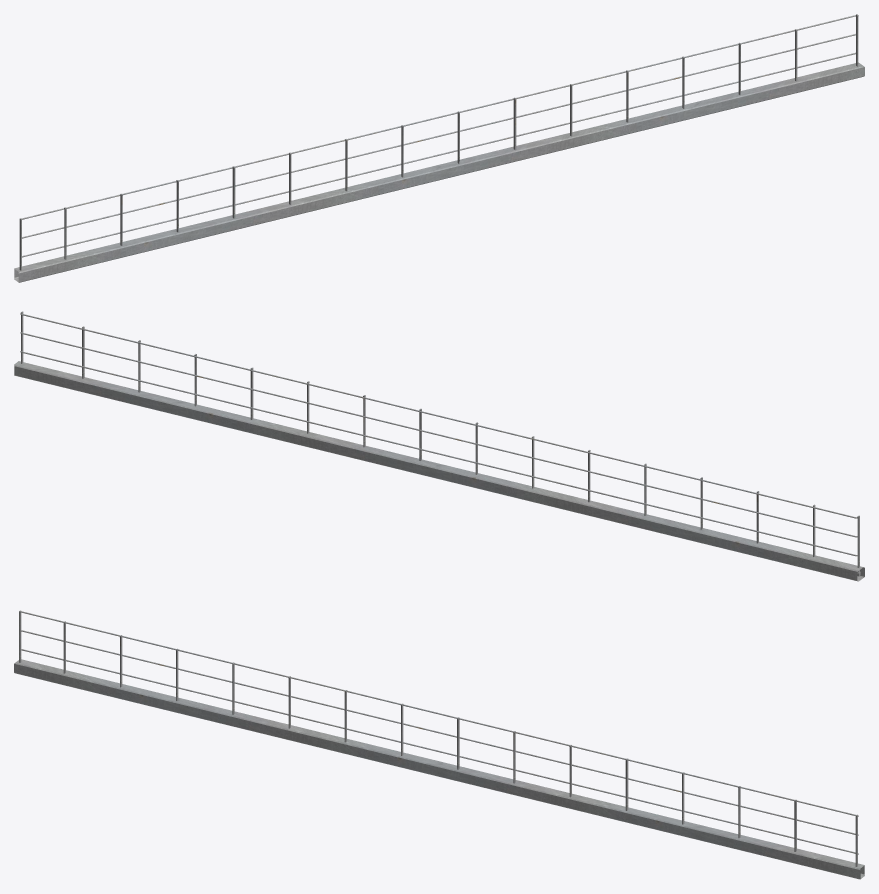
The model's file is weilanxiao.fbx.
3 views of the same model, one above another, from view 1: azimuth 30°, elevation 25°; view 2: azimuth 150°, elevation 25°; view 3: azimuth 330°, elevation 25° (orthographic).
Visible parts, largest first — view 1: 21-05; view 2: 21-05; view 3: 21-05.
Part boxes in pixels (x1,y1,x2,y2): 21-05: (14,14,864,282); 21-05: (14,311,864,581); 21-05: (14,610,864,879).
Bounding box in the file's own units: 70.99 × 4.98 × 0.8631.
1 material, 1 textured.
